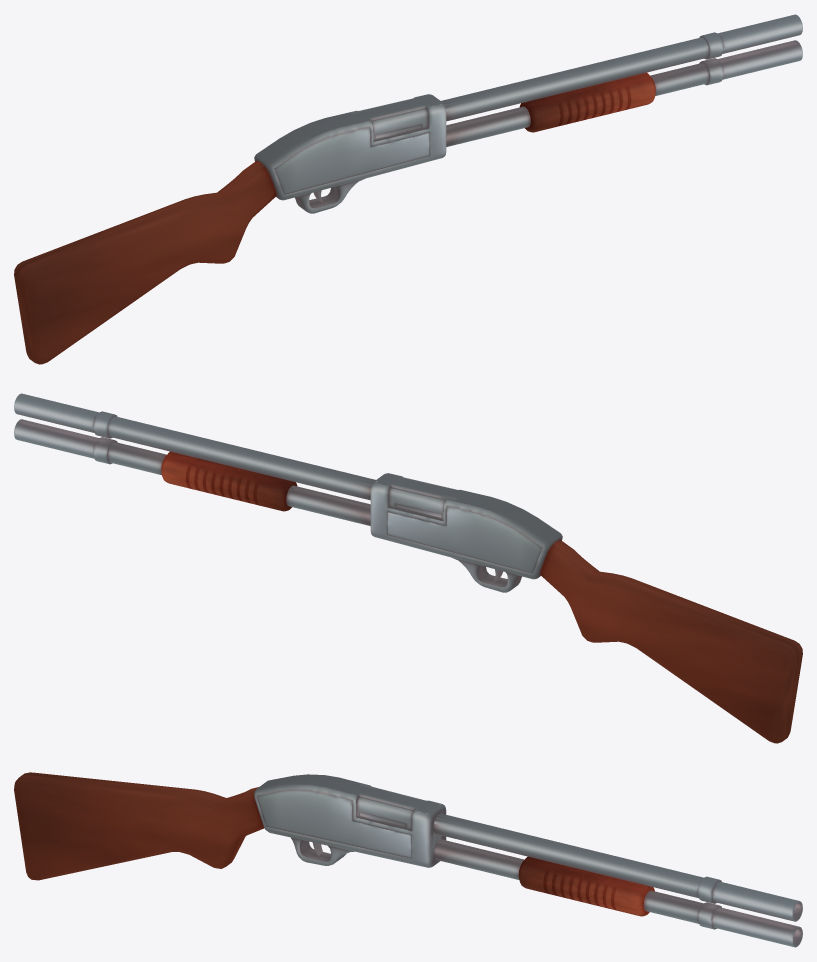
The model's file is shotgun.fbx.
The picture shows the model from 3 angles, top to bottom: view 1: azimuth 30°, elevation 25°; view 2: azimuth 150°, elevation 25°; view 3: azimuth 330°, elevation 25°; orthographic projection.
Visible parts, largest first — view 1: shotgun, shotgunpomp; view 2: shotgun, shotgunpomp; view 3: shotgun, shotgunpomp.
Boxes of the visible parts, left/top/right/bottom form: shotgun: left=14, top=14, right=802, bottom=364; shotgunpomp: left=519, top=72, right=655, bottom=132; shotgun: left=14, top=393, right=802, bottom=743; shotgunpomp: left=161, top=451, right=297, bottom=511; shotgun: left=14, top=772, right=802, bottom=947; shotgunpomp: left=518, top=856, right=654, bottom=916.
Bounding box in the file's own units: 0.6341 × 0.1305 × 0.0255.
